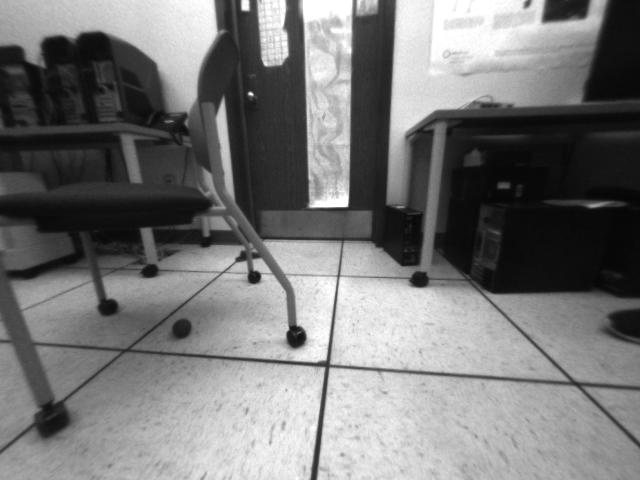dogtoy: (164, 311, 197, 342)
